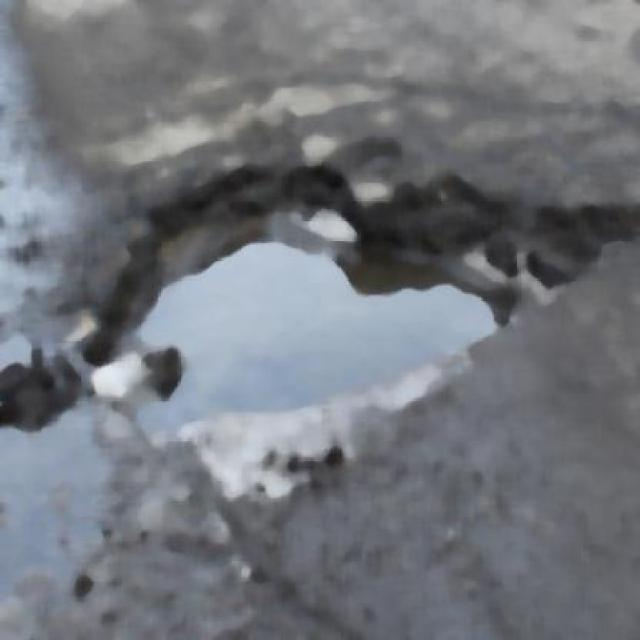Pothole: (96, 173, 582, 444)
